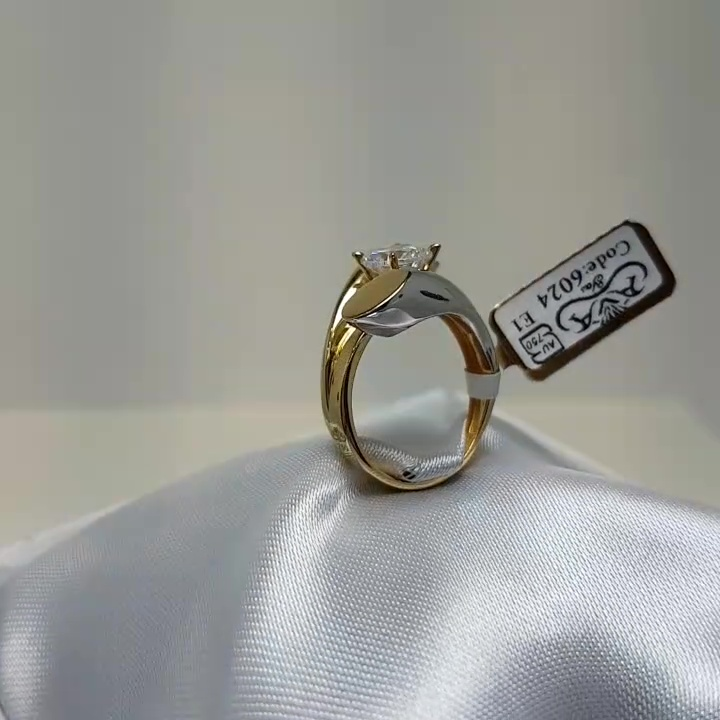Ring 7: (299, 213, 511, 503)
